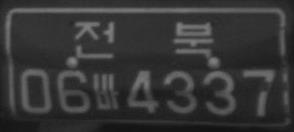0: (20, 67, 52, 114)
3: (203, 70, 237, 116), (164, 69, 198, 113)
4: (127, 69, 159, 113)
6: (56, 68, 91, 113)
7: (241, 67, 277, 116)
바: (92, 72, 119, 110)
전북_D: (74, 21, 214, 58)
